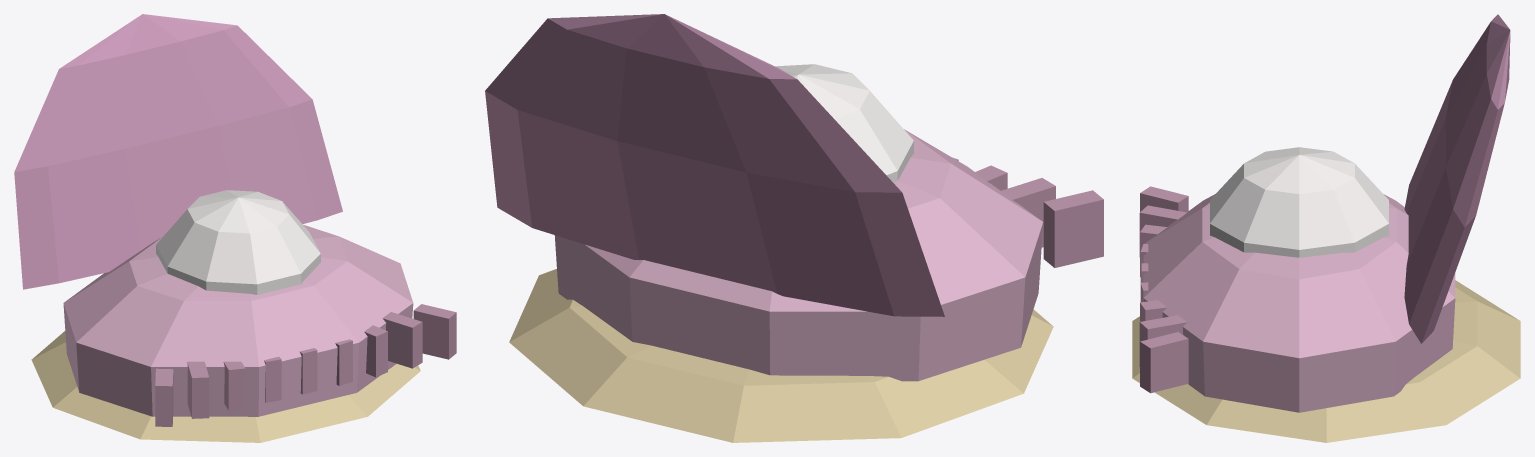
File: env_r15_giant_clam.glb
The picture shows the model from 3 angles, left to right: view 1: azimuth 30°, elevation 25°; view 2: azimuth 150°, elevation 25°; view 3: azimuth 270°, elevation 25°; orthographic projection. The views are drawn at different scales.
Parts seen in each view (by area): view 1: env_r15_giant_clam; view 2: env_r15_giant_clam; view 3: env_r15_giant_clam.
Part boxes in pixels (<box>): env_r15_giant_clam: <box>14,14,456,442</box>; env_r15_giant_clam: <box>485,14,1103,442</box>; env_r15_giant_clam: <box>1132,14,1520,442</box>.
Bounding box in the file's own units: 5 × 4 × 4.4.
Materials: 1 (1 with a texture image).
